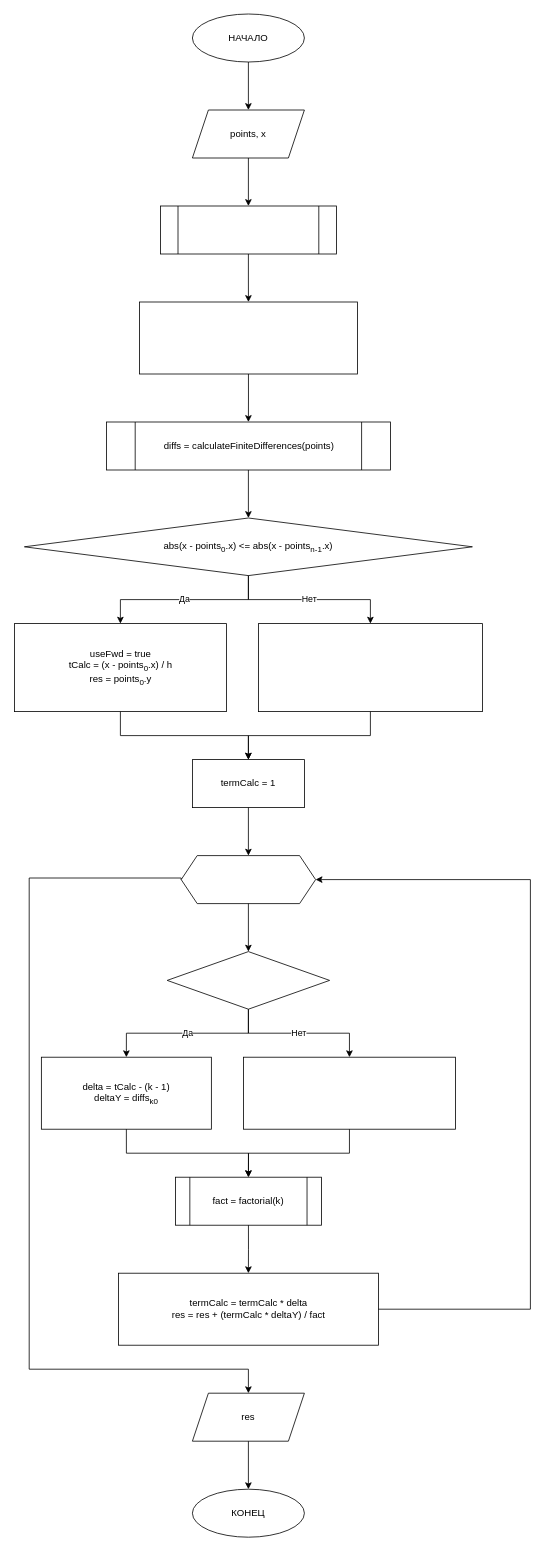
Image size: 550x1551. Some labels were removed from this diagram. Each missing label, with the centre of its shape:
checkEquidistant(points): the point at 248,229
delta = tCalc + (k - 1) deltaY = diffs k n - 1 - k: the point at 349,1092
k = 1, n - 1: the point at 248,879
n = points.size h = points 1 .x - points 0 .x: the point at 248,337
useFwd = false tCalc = (x - points n-1 .x) / h res = points n-1 .y: the point at 370,667
useFwd == true: the point at 248,980
